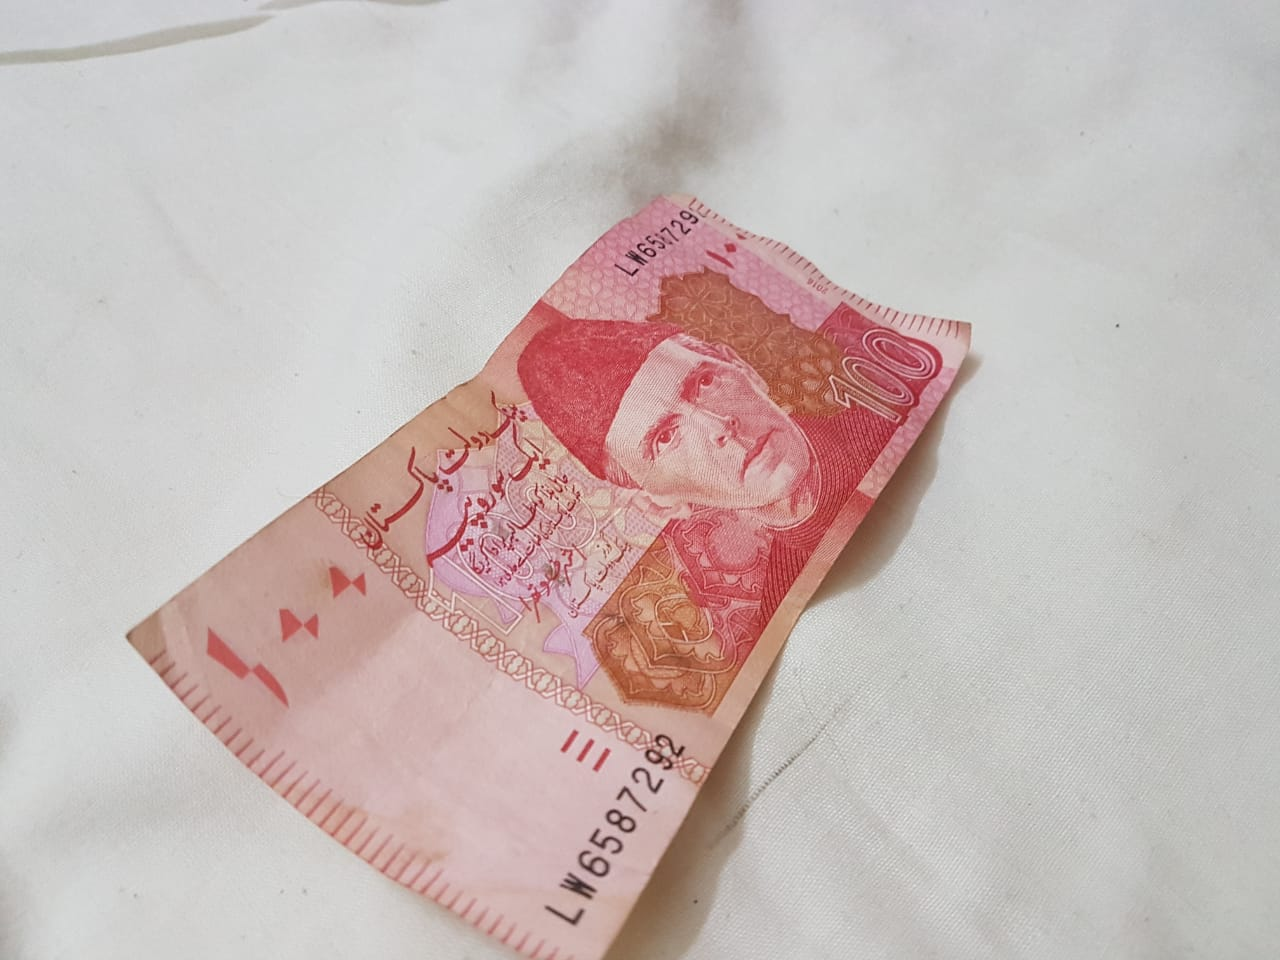100 rupee: (46, 159, 1030, 960)
